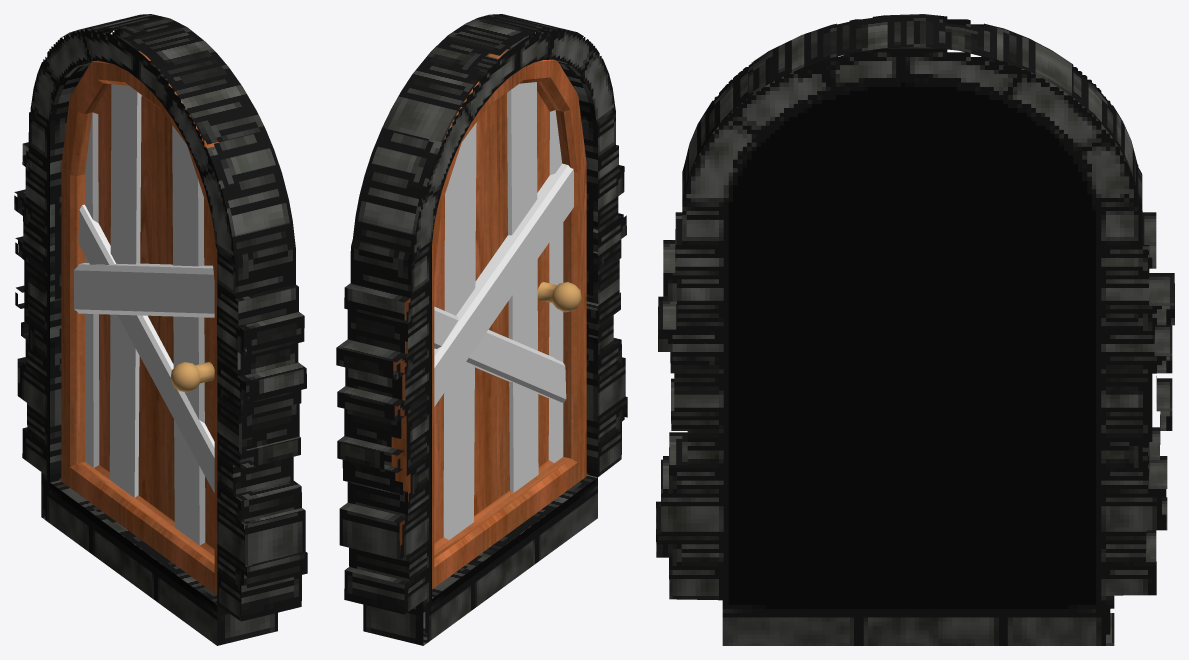
The model's file is Door_Animated.fbx.
3 renders of one model, left to right at view 1: azimuth 30°, elevation 25°; view 2: azimuth 150°, elevation 25°; view 3: azimuth 270°, elevation 25°, orthographic. The views are drawn at different scales.
Parts seen in each view (by area): view 1: Wall.009, Cube.006; view 2: Wall.009, Cube.006; view 3: Wall.009.
Boxes of the visible parts, x1,y1,x2,y2 form: Wall.009: (14, 14, 307, 645); Cube.006: (61, 51, 218, 595); Wall.009: (336, 14, 627, 645); Cube.006: (391, 49, 586, 589); Wall.009: (656, 14, 1174, 645).
Bounding box in the file's own units: 179 × 1253 × 983.
